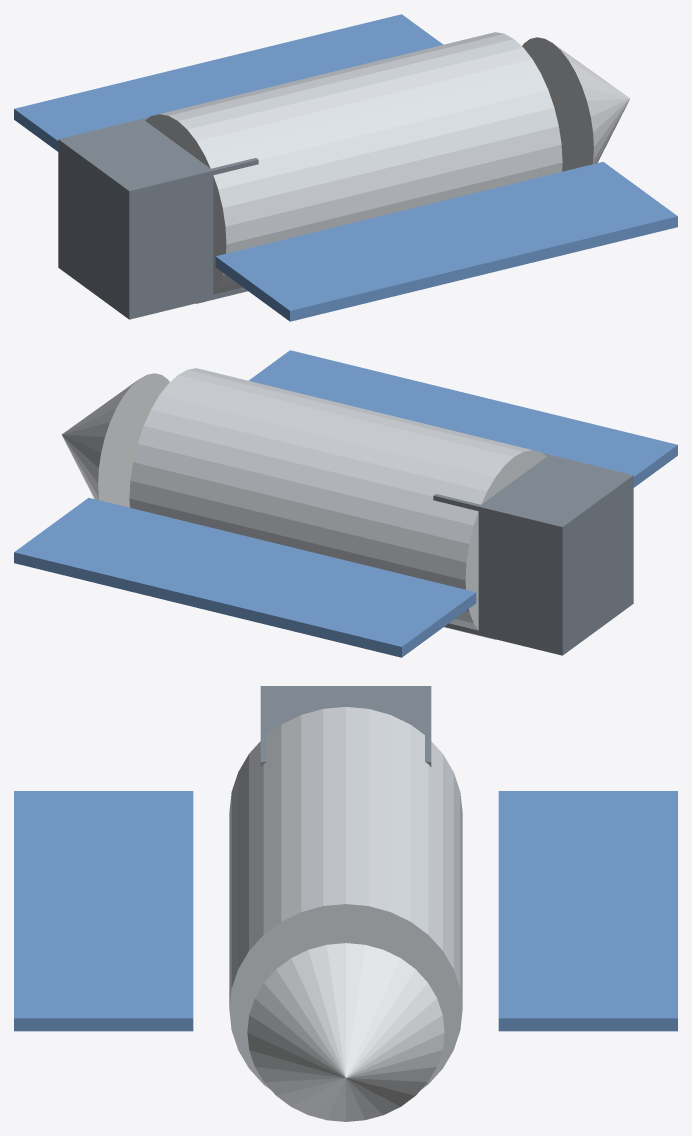
File: observatory.glb
3 views of the same model, one above another, from view 1: azimuth 30°, elevation 25°; view 2: azimuth 150°, elevation 25°; view 3: azimuth 270°, elevation 25° (orthographic). The views are drawn at different scales.
Visible parts, largest first — view 1: observatory_0, observatory_2, observatory_1, observatory_3, observatory_4; view 2: observatory_0, observatory_3, observatory_1, observatory_2, observatory_4; view 3: observatory_0, observatory_2, observatory_3, observatory_4, observatory_1.
Boxes of the visible parts, <box> form: observatory_0: <box>145,32,562,303</box>; observatory_2: <box>215,161,677,321</box>; observatory_1: <box>58,117,258,319</box>; observatory_3: <box>14,14,443,151</box>; observatory_4: <box>522,37,630,171</box>; observatory_0: <box>129,368,546,639</box>; observatory_3: <box>14,497,476,657</box>; observatory_1: <box>433,453,633,655</box>; observatory_2: <box>248,350,677,487</box>; observatory_4: <box>61,373,169,507</box>; observatory_0: <box>229,707,462,1089</box>; observatory_2: <box>14,791,193,1031</box>; observatory_3: <box>498,791,677,1031</box>; observatory_4: <box>247,943,444,1121</box>; observatory_1: <box>260,686,431,766</box>.
Bounding box in the file's own units: 4.15 × 1.3 × 3.7.
